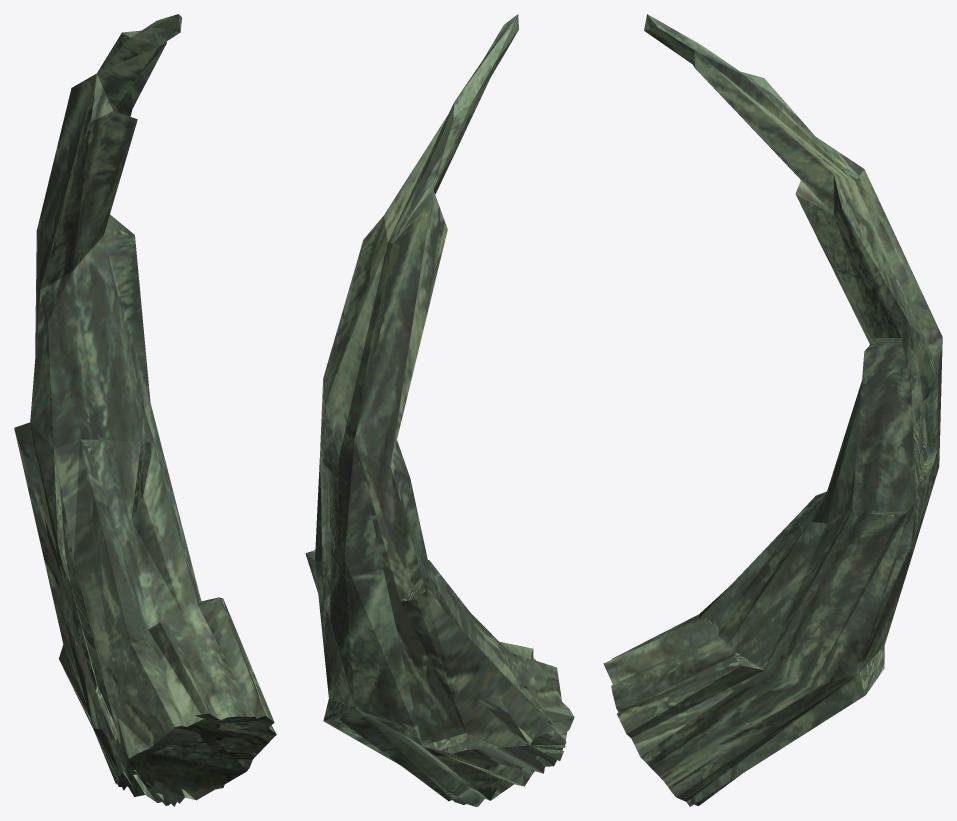
Rendered from 10104_CStone02.FBX.
3 renders of one model, left to right at view 1: azimuth 30°, elevation 25°; view 2: azimuth 150°, elevation 25°; view 3: azimuth 270°, elevation 25°, orthographic. The views are drawn at different scales.
Parts seen in each view (by area): view 1: objBM_A_artifact021; view 2: objBM_A_artifact021; view 3: objBM_A_artifact021.
Part boxes in pixels (x1,y1,x2,y2): objBM_A_artifact021: (14,14,276,806); objBM_A_artifact021: (305,14,574,806); objBM_A_artifact021: (603,14,942,806).
Size of the model in its own units: 164 by 860 by 343.
